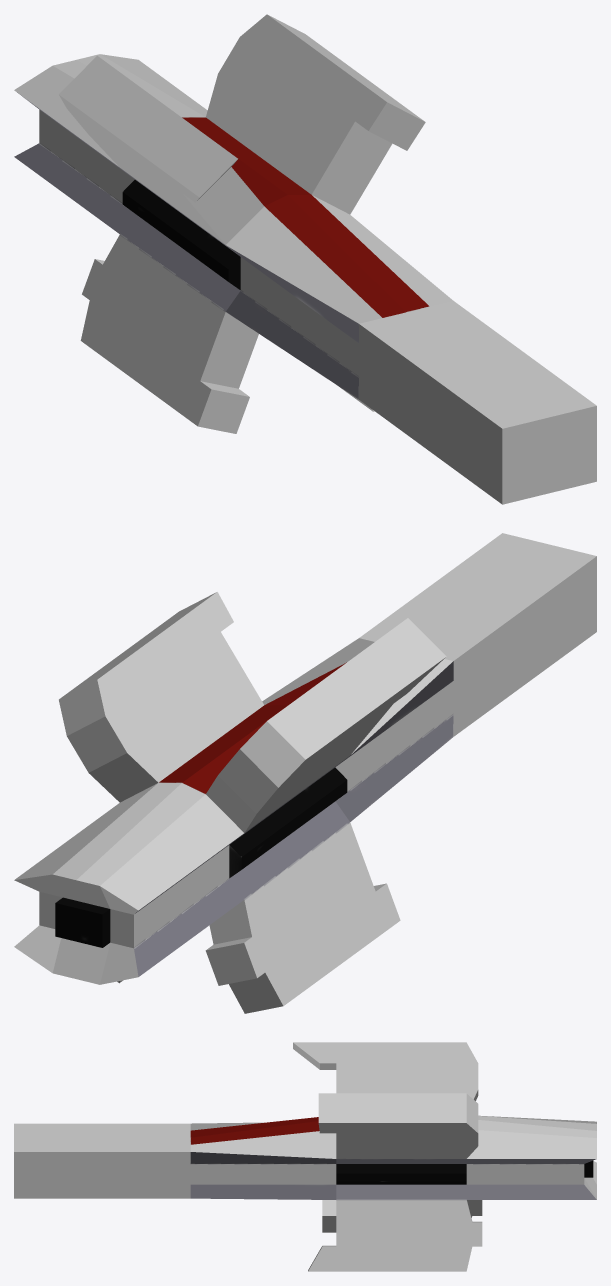
The model's file is Spaceship_large.fbx.
The picture shows the model from 3 angles, top to bottom: view 1: azimuth 30°, elevation 25°; view 2: azimuth 150°, elevation 25°; view 3: azimuth 270°, elevation 25°; orthographic projection. The views are drawn at different scales.
Parts seen in each view (by area): view 1: Cube; view 2: Cube; view 3: Cube.
Part boxes in pixels (left/top/right/bottom): Cube: left=14, top=14, right=596, bottom=504; Cube: left=14, top=533, right=596, bottom=1013; Cube: left=14, top=1042, right=596, bottom=1271.
Size of the model in its own units: 523 by 603 by 1736.
1 material, 1 textured.
